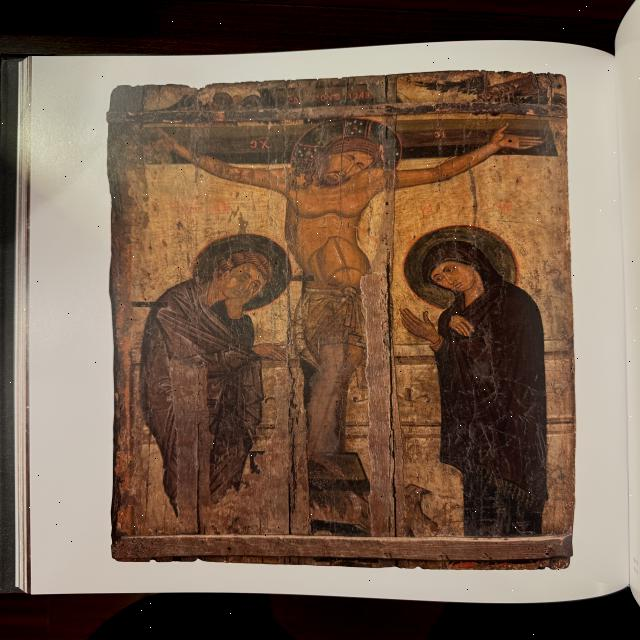aura: (404, 226, 520, 305), (191, 237, 293, 315), (288, 119, 408, 183)
christ_crucifiction: (135, 118, 557, 536)
mary: (409, 221, 551, 539)
saint: (135, 232, 292, 532)
